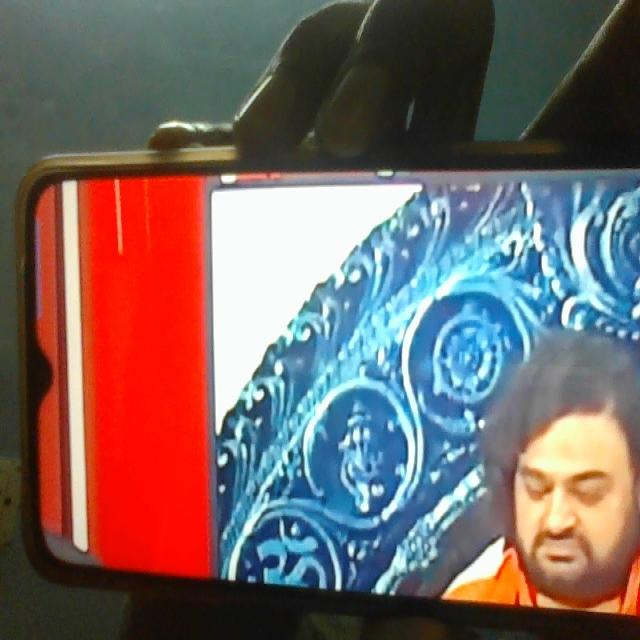fake: (508, 360, 640, 611)
